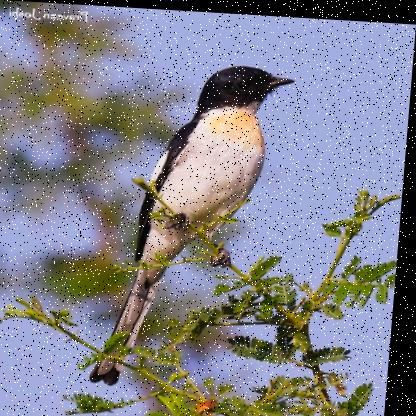Burung: (98, 57, 298, 391)
